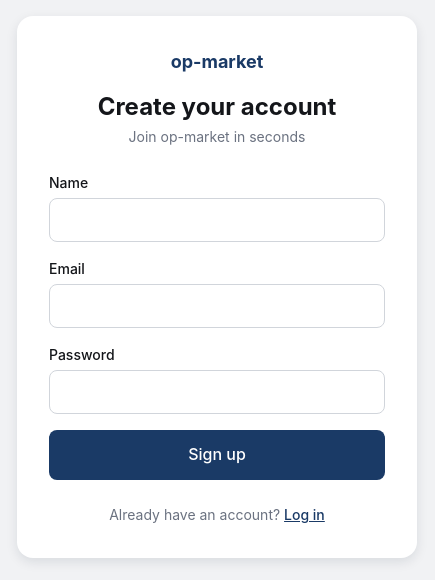
Test: SignupPage › shows the success screen with the backend's message after a successful signup
In the field labelled "Name": (217, 220) [49,198,385,242], type "Lahcen"
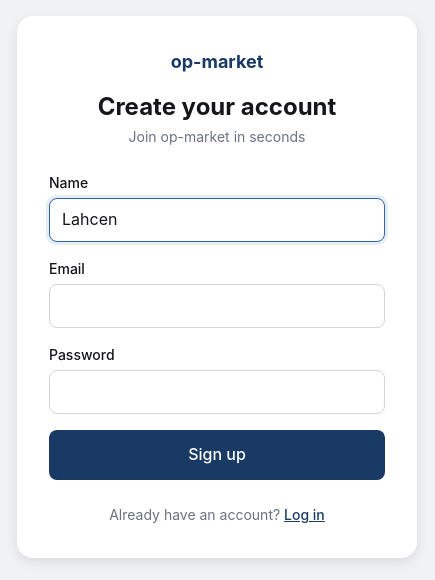
In the field labelled "Email": (217, 306) [49,284,385,328], type "lahcen@test.com"
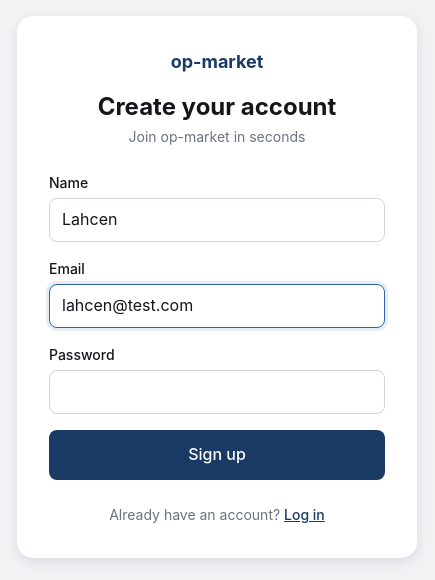
In the password field labelled "Password": (217, 392) [49,370,385,414], type "secret123"
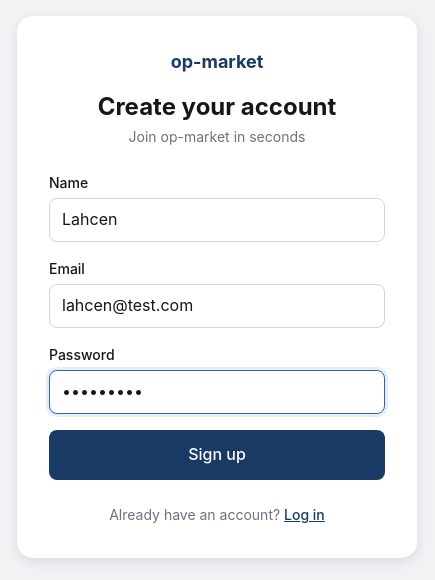
Click the button "Sign up": (217, 455) [49,430,385,480]
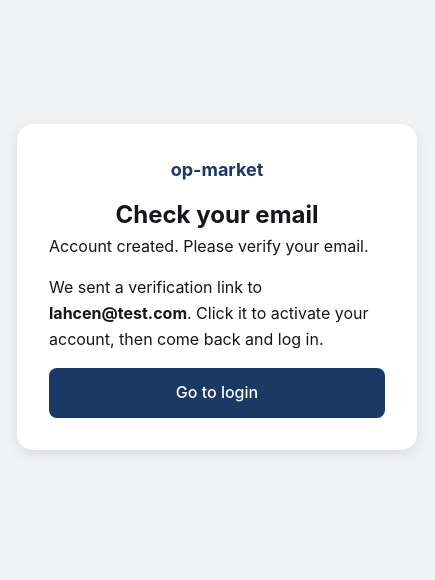
Check: the heading "Check your email" is shown, box [116,200,318,229]
Check: the text "Account created. Please verify your email." is shown, box [49,234,385,259]
Check: the text "We sent a verification link" is shown, box [49,277,262,297]
